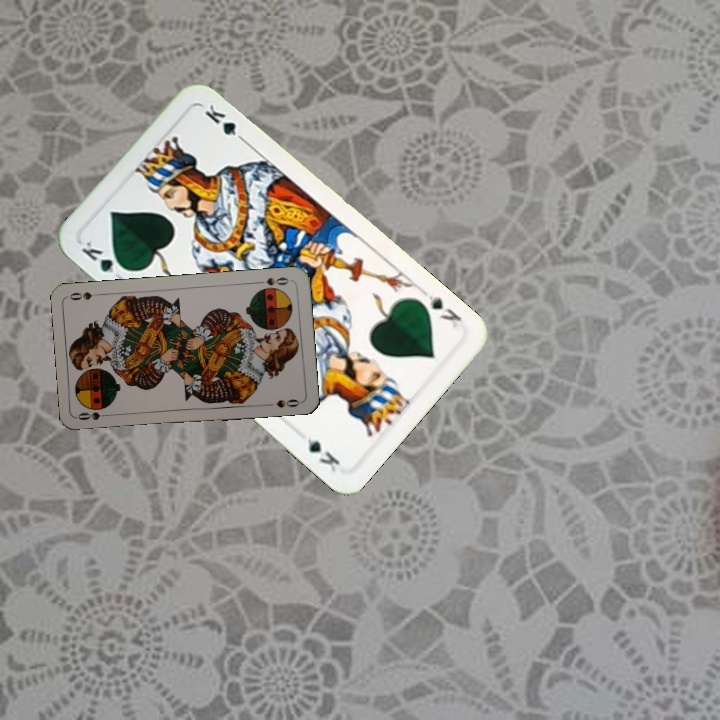GK: (77, 235, 130, 276), (422, 288, 464, 331)
SO: (74, 408, 115, 423), (253, 273, 291, 288)
